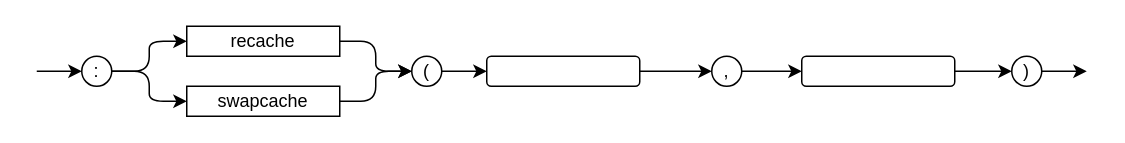
The diagram is 1125 pixels wide and 143 high, and some of its shapes have lost their labels. Each missing label, with the centre of its shape:
expression: (x=877, y=70)
key template: (x=562, y=70)
